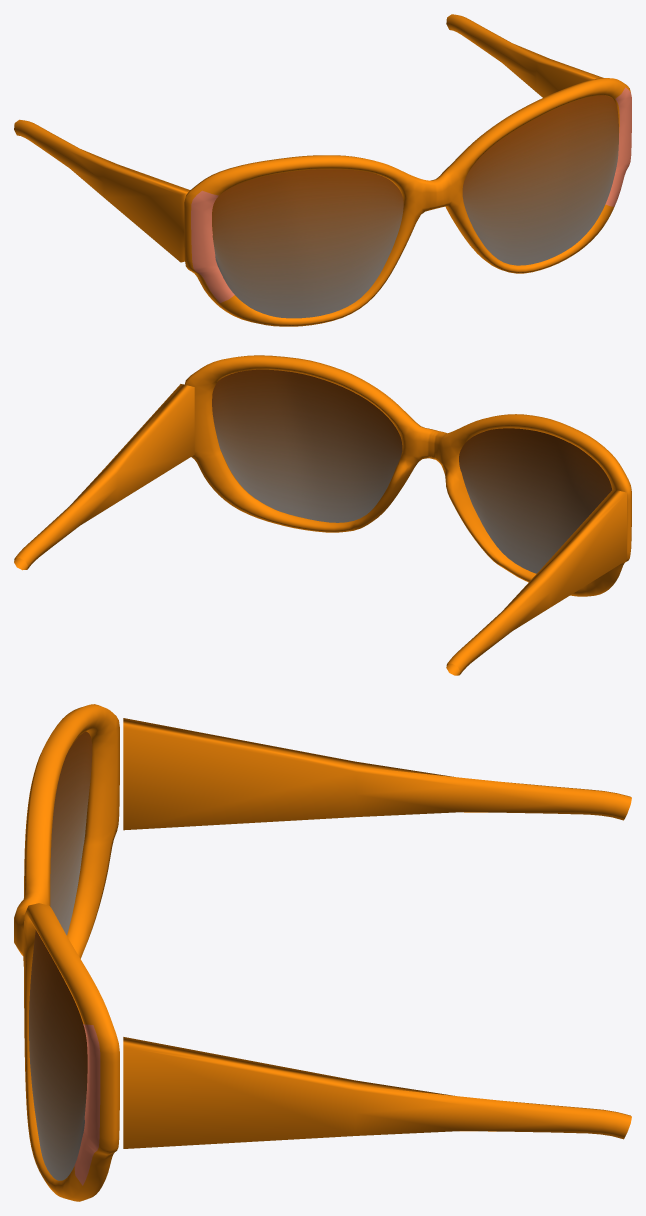
Rendered from orangeglasses2.obj.
3 renders of one model, top to bottom at view 1: azimuth 30°, elevation 25°; view 2: azimuth 150°, elevation 25°; view 3: azimuth 270°, elevation 25°, orthographic. The views are drawn at different scales.
Size of the model in its own units: 38.98 by 13.99 by 30.92.
Materials: 4 (1 with a texture image).
